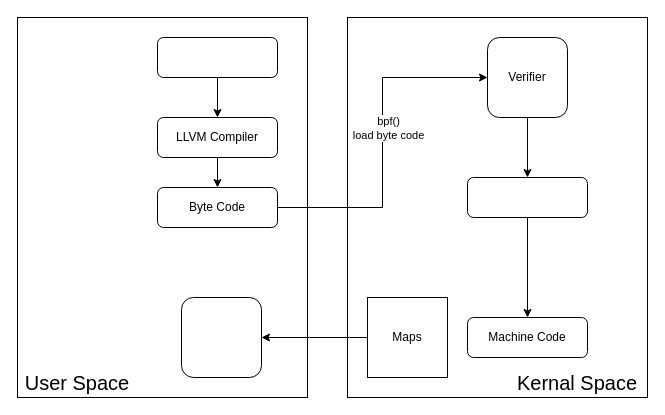
This 665x415 diagram has some shape labels left out. Each missing label, with the centre of its shape:
eBPF Program: the point at 217,57
JIT: the point at 527,197
Output: the point at 221,337
